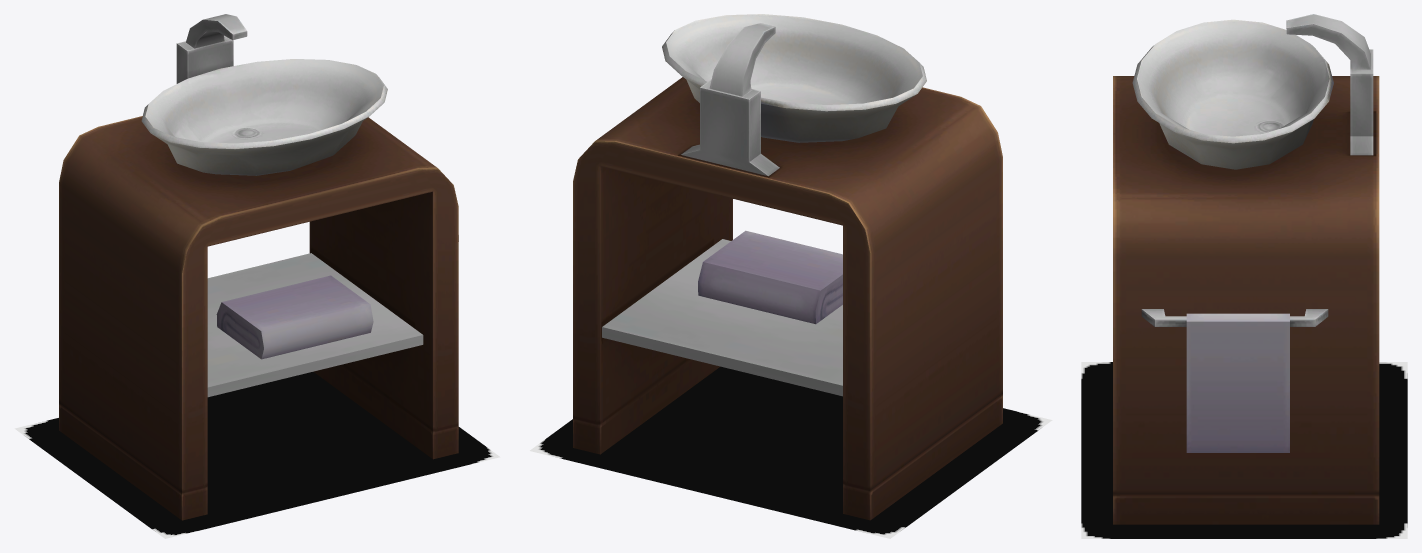
File: jj_ty_xishouchi03.FBX
The picture shows the model from 3 angles, left to right: view 1: azimuth 30°, elevation 25°; view 2: azimuth 150°, elevation 25°; view 3: azimuth 270°, elevation 25°; orthographic projection. The views are drawn at different scales.
Parts seen in each view (by area): view 1: jj_ty_xishouchi03, shadow; view 2: jj_ty_xishouchi03, shadow; view 3: jj_ty_xishouchi03, shadow.
Boxes of the visible parts, bbox=[...] form: jj_ty_xishouchi03: bbox=[59, 14, 458, 520]; shadow: bbox=[14, 372, 500, 538]; jj_ty_xishouchi03: bbox=[573, 14, 1002, 520]; shadow: bbox=[530, 366, 1052, 538]; jj_ty_xishouchi03: bbox=[1113, 14, 1379, 524]; shadow: bbox=[1081, 362, 1407, 538].
Bounding box in the file's own units: 97.32 × 112 × 75.81.
